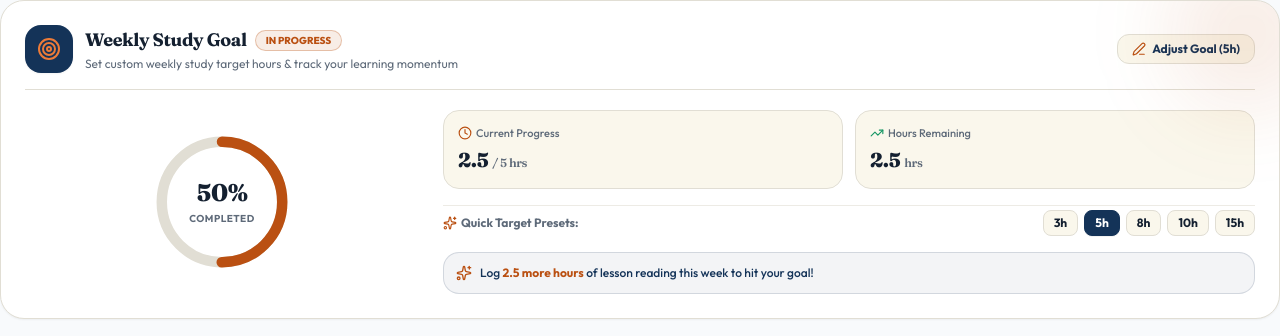
Test case: WeeklyGoalCard › selecting a preset persists the new goal via userService
The width and height of the screenshot is (1280, 336).
Click the button "10h". click: (1188, 222)
box: [1168, 210, 1209, 236]
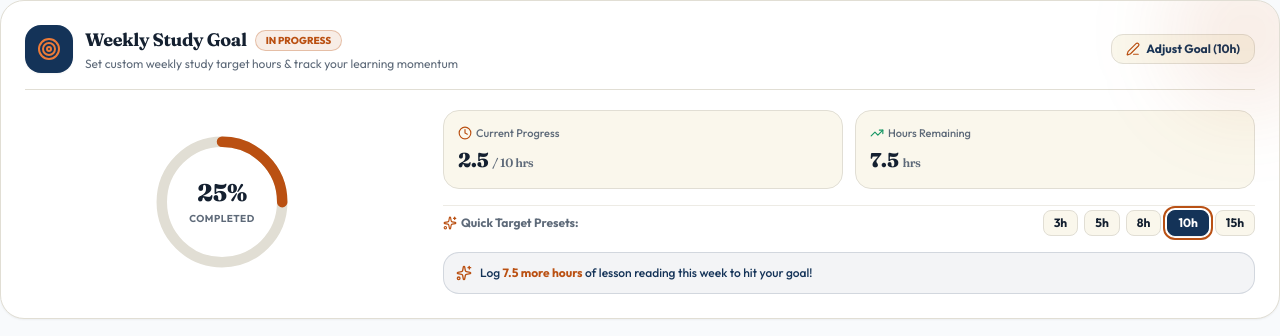
Check: the text "Adjust Goal (10h)" is shown, box [1146, 41, 1240, 57]
